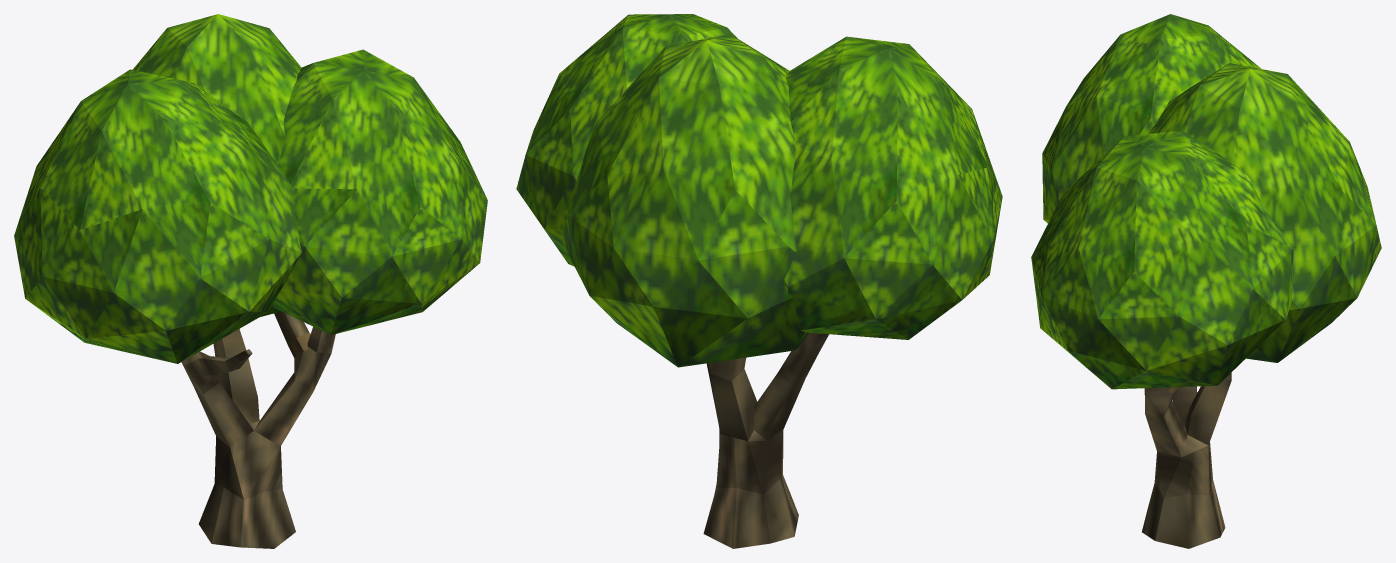
File: Poly_Tree_01_A.obj
3 renders of one model, left to right at view 1: azimuth 30°, elevation 25°; view 2: azimuth 150°, elevation 25°; view 3: azimuth 270°, elevation 25°, orthographic. The views are drawn at different scales.
Visible parts, largest first — view 1: Icosphere.001, Icosphere.004, Plane, Icosphere.002; view 2: Icosphere.002, Icosphere.001, Icosphere.004, Plane; view 3: Icosphere.004, Icosphere.002, Icosphere.001, Plane.
Part boxes in pixels (x1,y1,x2,y2): Icosphere.001: [14, 69, 301, 363]; Icosphere.004: [272, 49, 487, 334]; Plane: [181, 311, 335, 548]; Icosphere.002: [132, 14, 301, 316]; Icosphere.002: [561, 34, 807, 367]; Icosphere.001: [784, 36, 1002, 339]; Icosphere.004: [516, 14, 736, 266]; Plane: [703, 332, 828, 548]; Icosphere.004: [1031, 130, 1293, 389]; Icosphere.002: [1149, 63, 1381, 362]; Icosphere.001: [1042, 14, 1261, 223]; Plane: [1142, 372, 1231, 548].
Size of the model in its own units: 3.46 by 3.81 by 2.6.
1 material, 1 textured.
